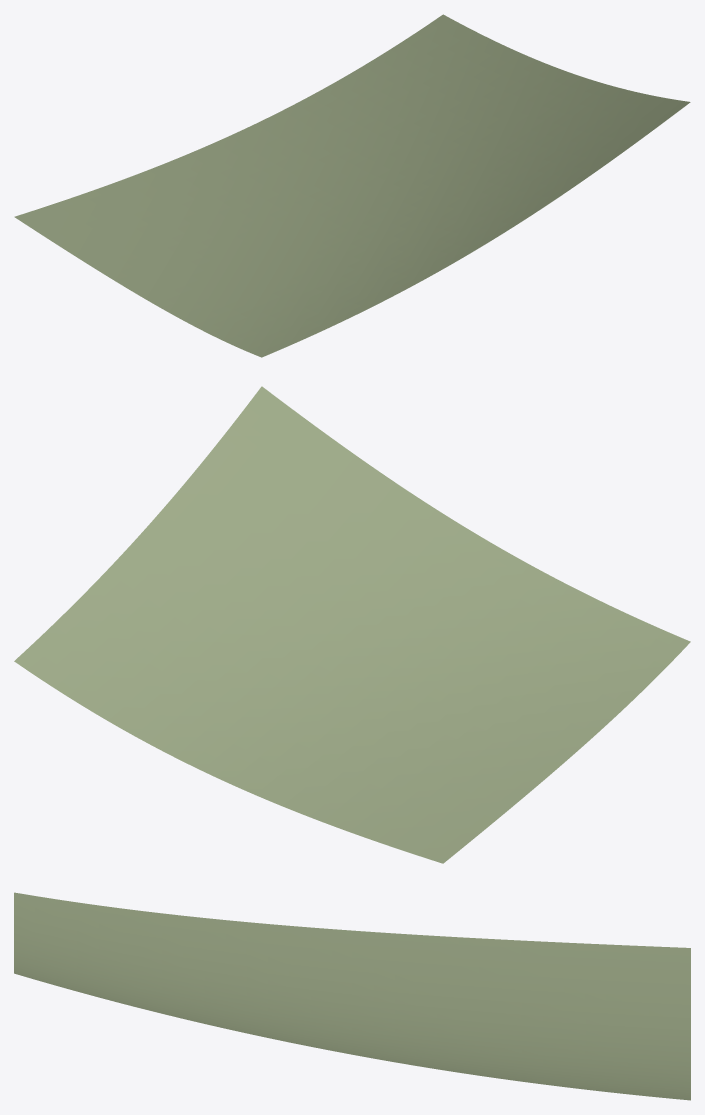
File: expanse-27-26.glb
3 views of the same model, one above another, from view 1: azimuth 30°, elevation 25°; view 2: azimuth 150°, elevation 25°; view 3: azimuth 270°, elevation 25° (orthographic). The views are drawn at different scales.
Parts seen in each view (by area): view 1: expanse-27-26; view 2: expanse-27-26; view 3: expanse-27-26.
Boxes of the visible parts, x1,y1,x2,y2 form: expanse-27-26: [14, 14, 690, 357]; expanse-27-26: [14, 386, 690, 863]; expanse-27-26: [14, 892, 690, 1100].
Bounding box in the file's own units: 256 × 109 × 256.
